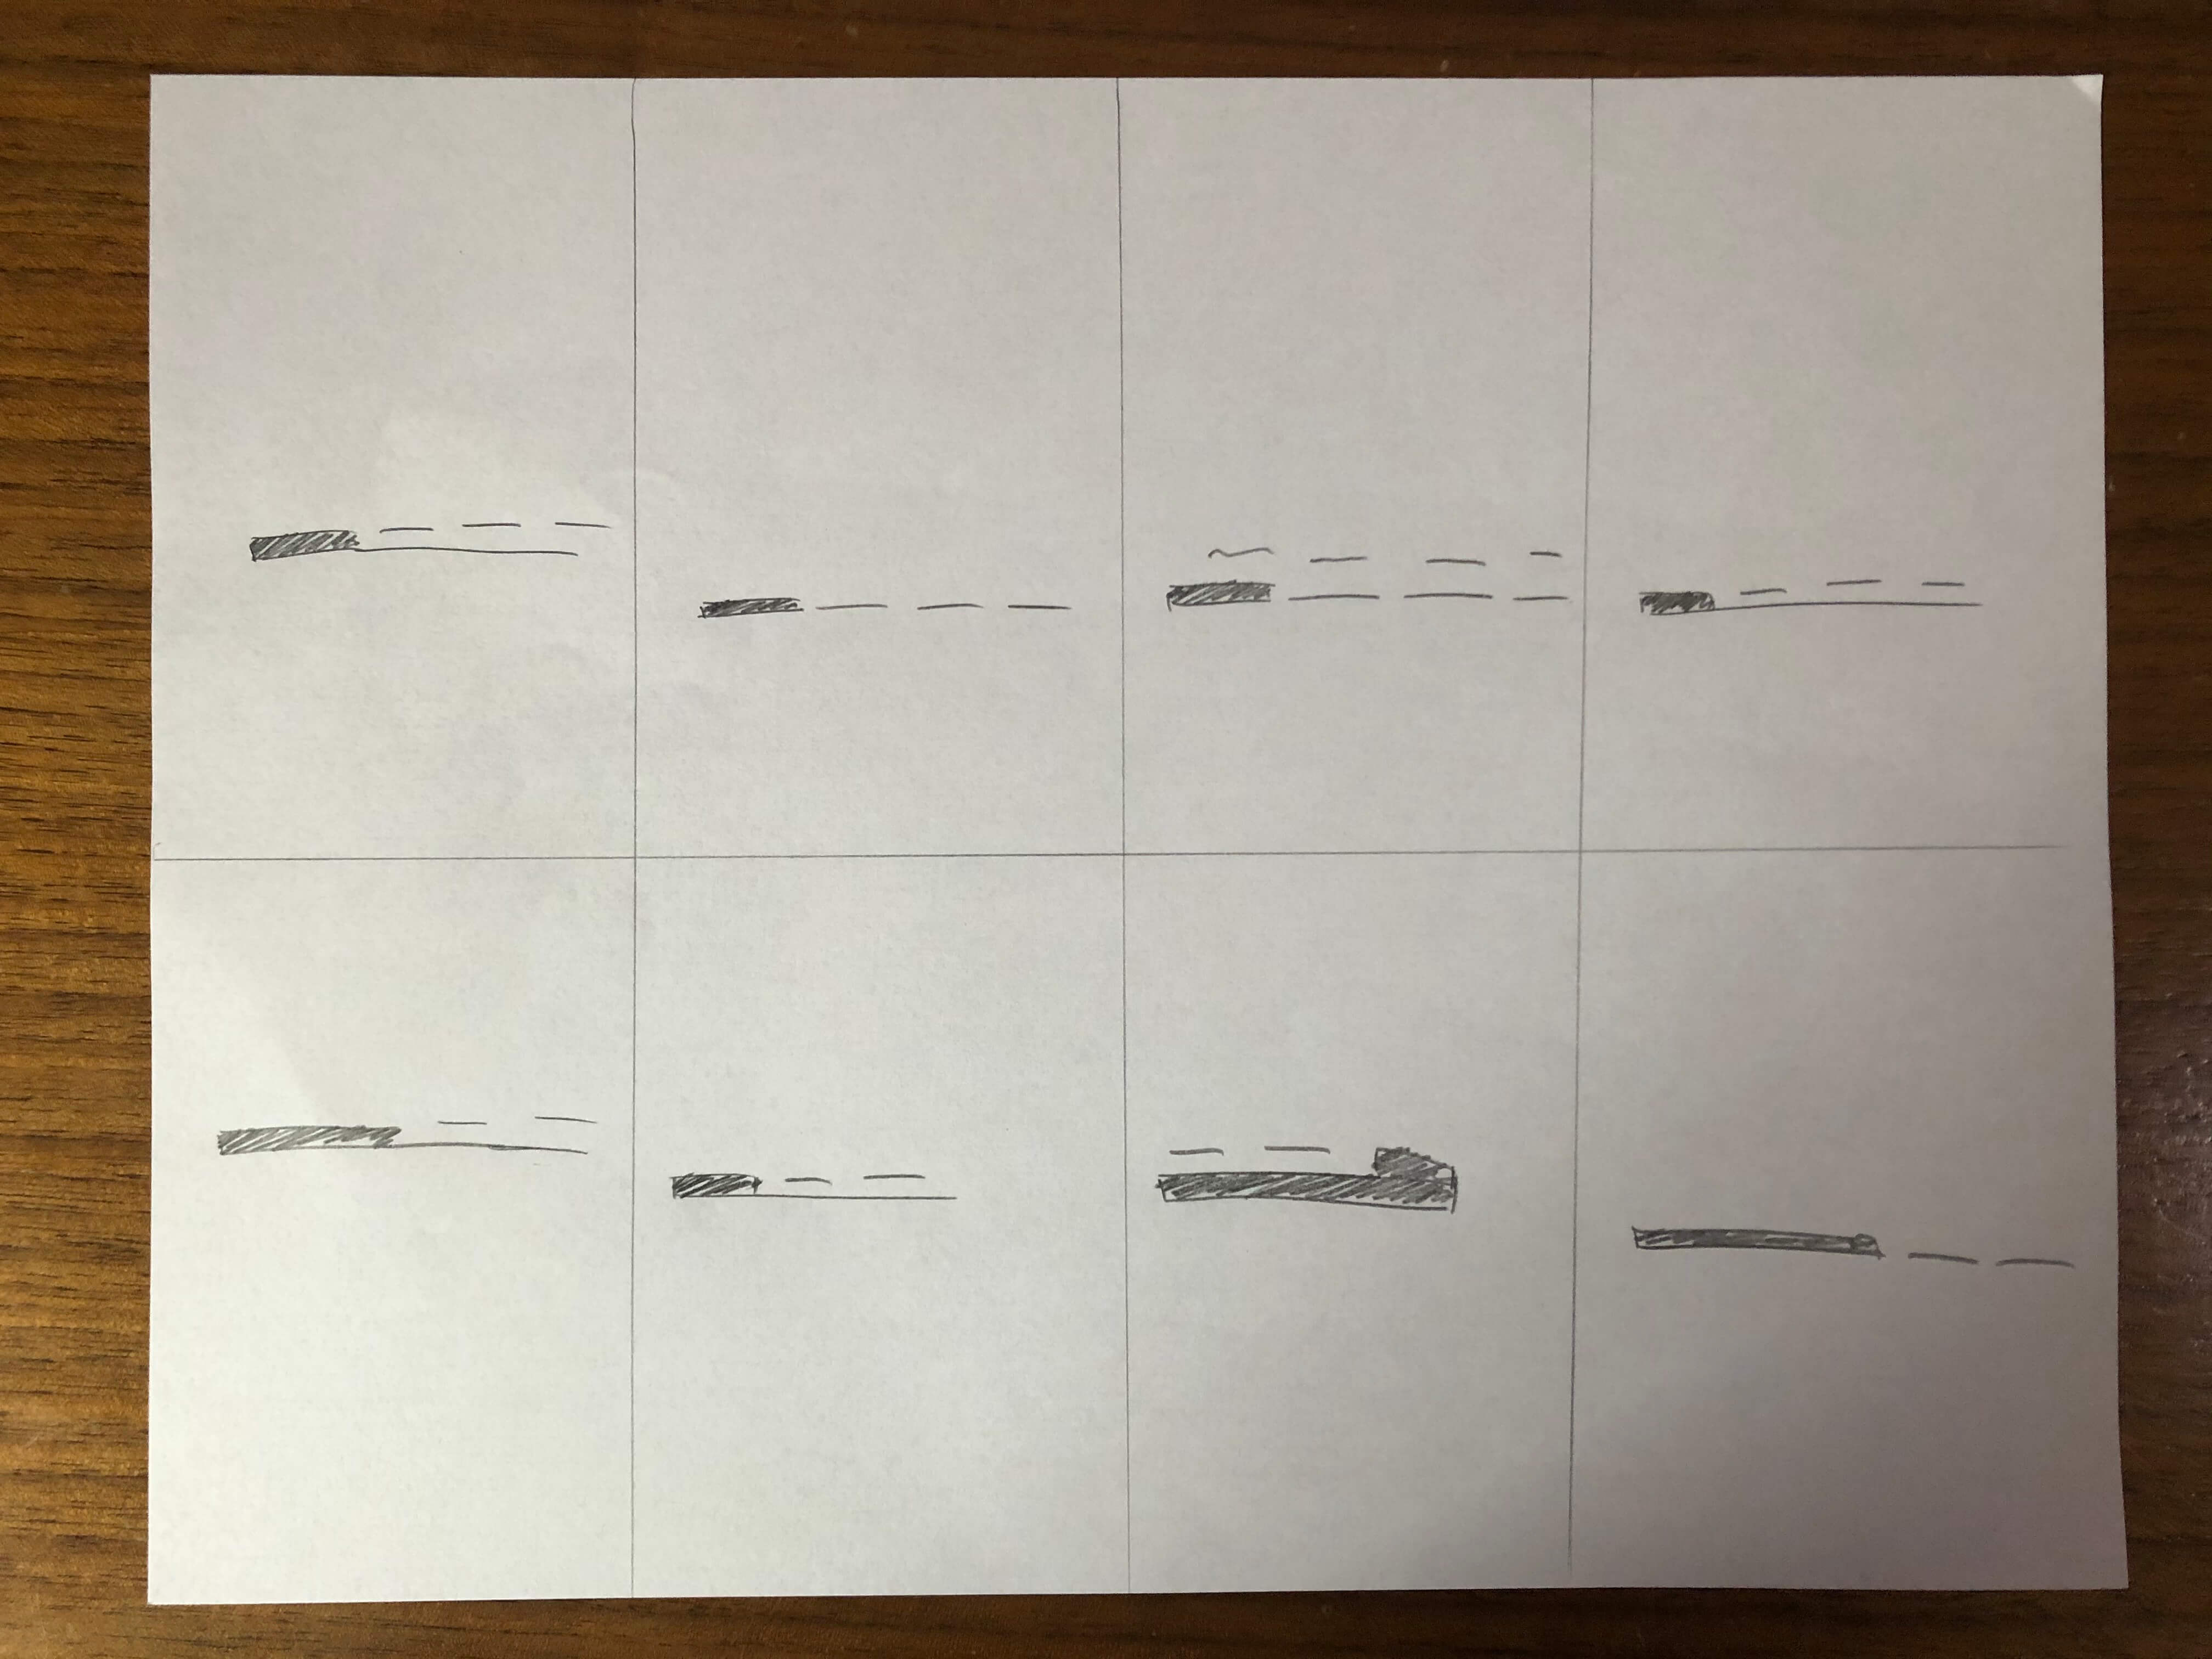switch: (239, 498, 620, 584)
tabs: (1163, 530, 1575, 633), (695, 568, 1096, 655), (671, 1140, 974, 1230), (1627, 558, 1987, 629)
